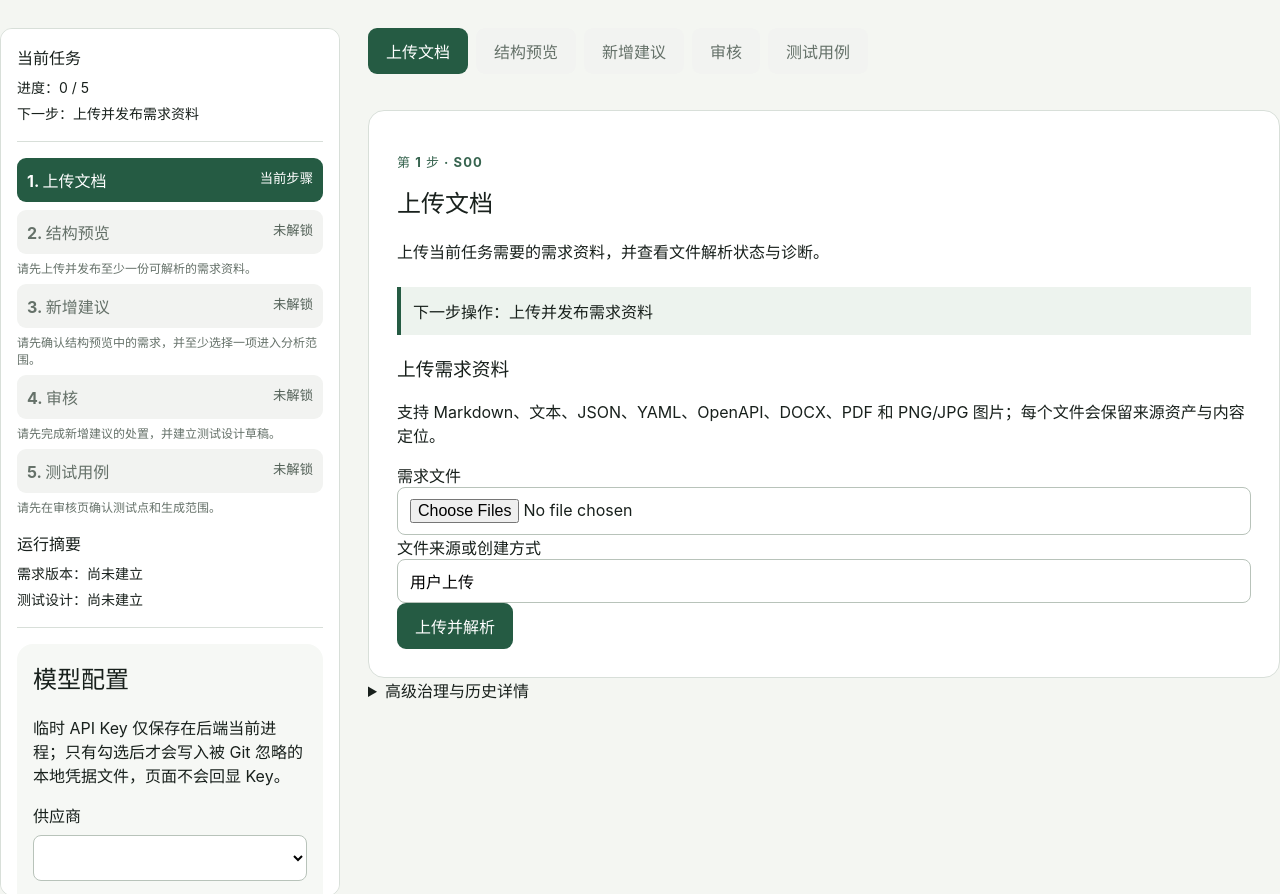
Test case: 高级治理能力按需可达，且不会添加或阻塞主流程页签
Expected: the text "下一步：上传并发布需求资料" is shown, [17,105,199,122]
Click the heading "高级治理与历史详情": (457, 691) [385,681,529,701]
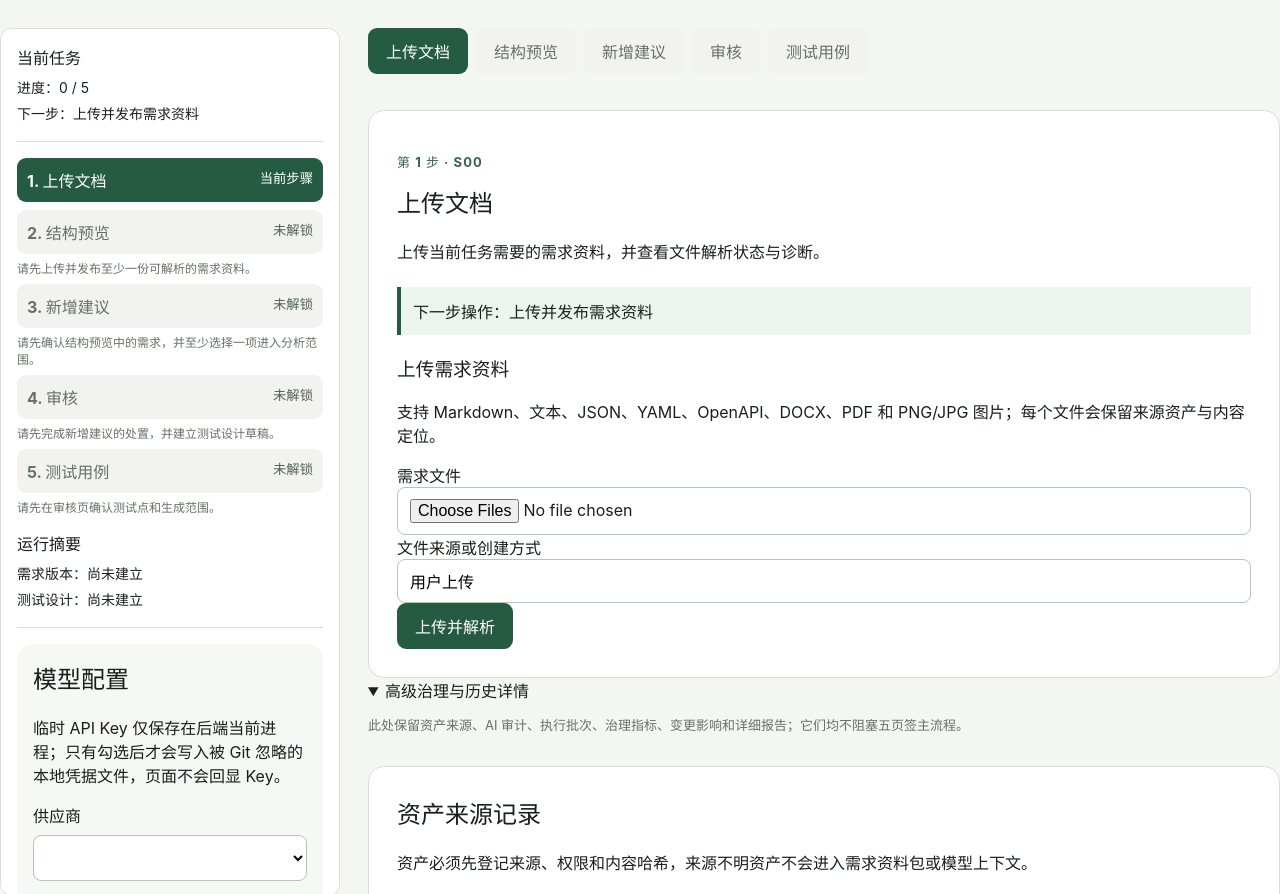
Expected: the number of tabs is 5, [368,28,468,74]; [476,28,576,74]; [584,28,684,74]; [692,28,760,74]; [768,28,868,74]
Now the heading "资产来源记录" is shown, box [397,800,541,829]
